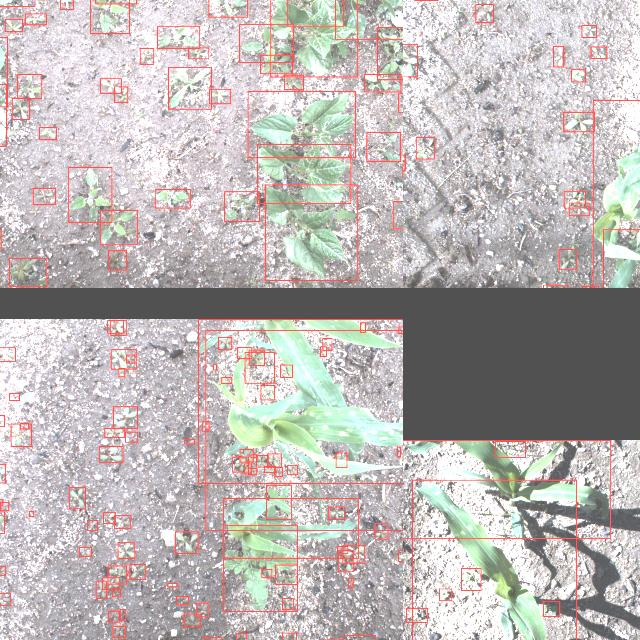crop: (205, 329, 403, 530), (198, 318, 403, 483), (412, 479, 576, 640), (403, 439, 611, 538), (264, 184, 358, 280), (593, 99, 640, 288), (224, 498, 358, 558), (248, 90, 356, 158), (270, 0, 357, 76), (257, 143, 351, 203), (335, 0, 403, 38), (603, 229, 640, 288), (288, 0, 344, 25), (343, 635, 375, 640)
weed: (223, 525, 297, 611), (68, 168, 112, 222), (239, 22, 293, 62), (168, 66, 212, 108), (378, 27, 403, 79), (100, 210, 138, 244), (90, 0, 129, 32), (224, 191, 260, 221), (9, 258, 47, 286), (367, 132, 401, 160), (266, 484, 292, 520), (158, 25, 200, 47), (245, 352, 275, 382), (154, 188, 190, 208), (364, 73, 402, 91), (260, 54, 292, 74), (208, 0, 247, 16), (564, 111, 594, 131), (18, 74, 42, 98), (113, 406, 137, 428), (110, 348, 136, 368), (176, 531, 198, 553), (11, 422, 31, 446), (495, 440, 525, 456), (403, 44, 417, 76), (275, 564, 297, 584), (461, 568, 481, 590), (416, 137, 434, 159), (564, 190, 586, 208), (343, 545, 365, 563), (99, 446, 123, 462), (12, 98, 30, 119), (108, 250, 126, 270), (559, 249, 577, 269), (33, 188, 55, 204), (338, 550, 354, 572), (476, 4, 494, 22), (108, 566, 126, 584), (210, 88, 230, 104), (284, 74, 304, 90), (69, 488, 85, 508), (100, 78, 122, 92), (407, 608, 428, 622), (542, 600, 560, 616), (393, 201, 403, 229), (569, 202, 589, 215), (118, 542, 134, 558), (249, 349, 265, 365), (232, 456, 248, 472), (26, 12, 46, 24), (188, 46, 208, 58), (114, 86, 128, 102), (140, 47, 154, 63), (0, 347, 16, 361), (130, 564, 146, 578), (115, 514, 131, 528), (110, 320, 126, 334), (184, 613, 200, 627), (261, 384, 275, 400), (329, 506, 345, 520), (102, 577, 120, 589), (5, 18, 22, 30), (553, 46, 563, 66), (267, 453, 281, 467), (374, 524, 388, 538), (40, 127, 56, 139), (591, 46, 607, 58), (107, 320, 123, 332), (104, 428, 124, 437), (95, 582, 106, 598), (236, 347, 252, 358), (571, 69, 585, 81), (582, 24, 596, 36), (196, 603, 208, 617), (218, 336, 232, 348), (240, 448, 252, 462), (336, 452, 346, 468), (113, 626, 125, 638), (108, 610, 120, 622), (280, 364, 292, 376), (256, 454, 268, 466), (282, 598, 294, 610), (440, 588, 452, 600), (0, 593, 11, 605), (79, 546, 91, 556), (103, 512, 115, 522), (125, 431, 137, 441), (322, 337, 332, 349), (0, 463, 6, 482), (282, 632, 296, 640), (60, 0, 73, 8), (87, 520, 97, 530), (287, 464, 297, 474), (262, 568, 272, 578), (176, 596, 188, 604), (398, 92, 403, 111), (9, 392, 19, 400), (126, 354, 136, 362), (244, 463, 252, 473), (274, 466, 282, 476), (338, 545, 348, 553), (120, 608, 126, 620), (264, 466, 276, 472), (237, 633, 247, 640), (0, 502, 8, 510), (112, 588, 120, 596), (119, 366, 125, 376), (184, 438, 194, 444), (203, 421, 209, 431), (222, 376, 232, 382), (248, 468, 258, 474), (320, 346, 326, 356), (348, 577, 354, 587), (360, 321, 366, 331), (398, 549, 403, 560), (0, 565, 5, 575), (20, 422, 28, 428), (0, 414, 4, 425), (167, 583, 177, 587), (28, 510, 34, 516), (398, 325, 403, 332), (398, 446, 400, 456), (0, 498, 2, 505), (251, 454, 257, 456), (214, 364, 216, 368)
